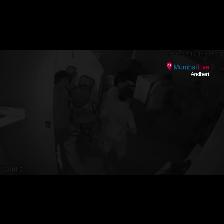person: (100, 88, 136, 168), (54, 71, 69, 172)
